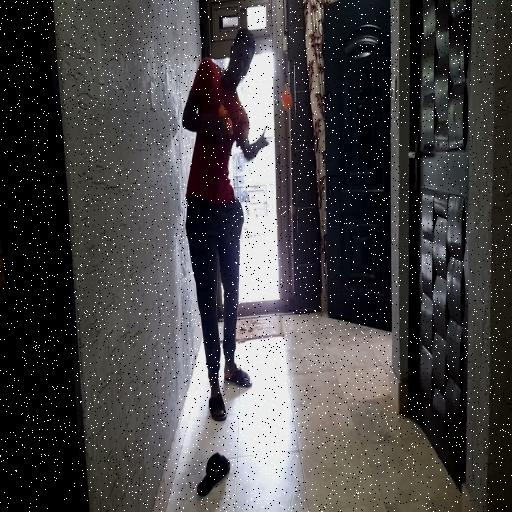plastic-ball: (280, 80, 295, 114)
